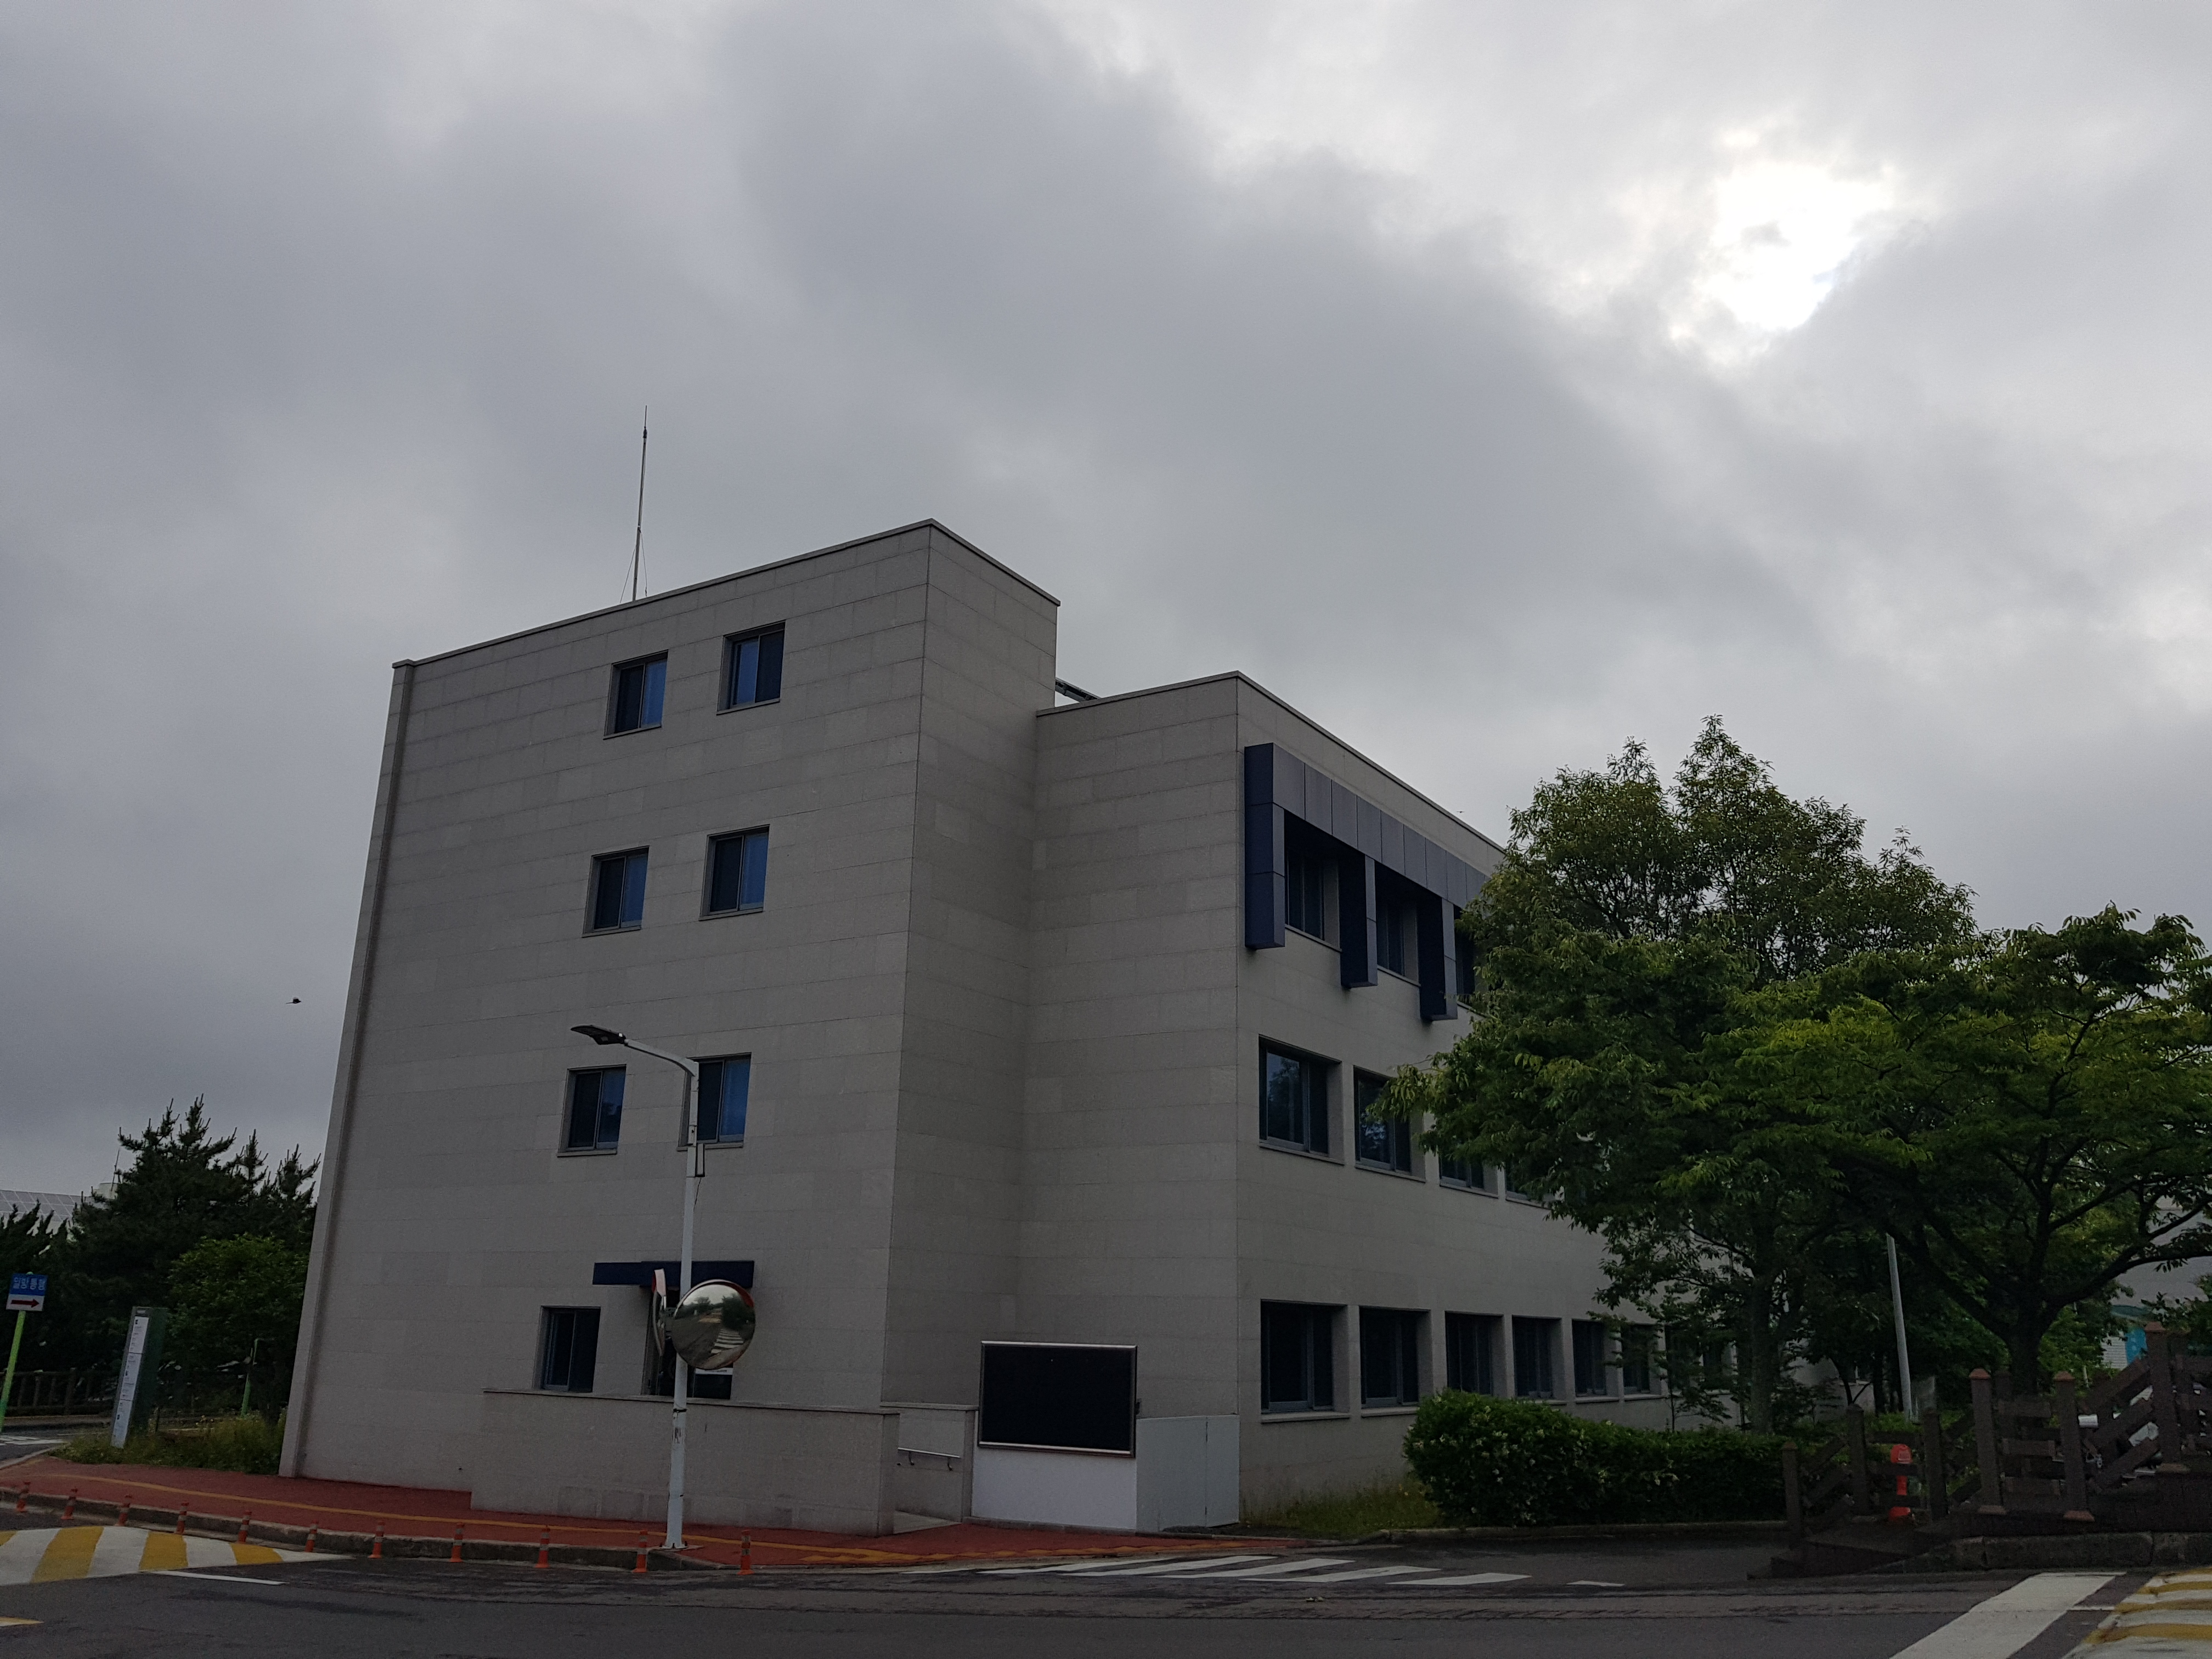College of Social Sciences: (301, 507, 1588, 1530), (543, 591, 779, 1415)
